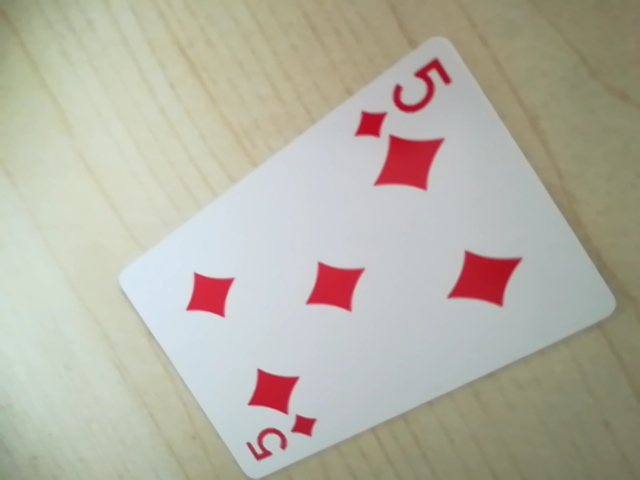fk 5: (351, 52, 454, 140), (237, 409, 321, 473)
